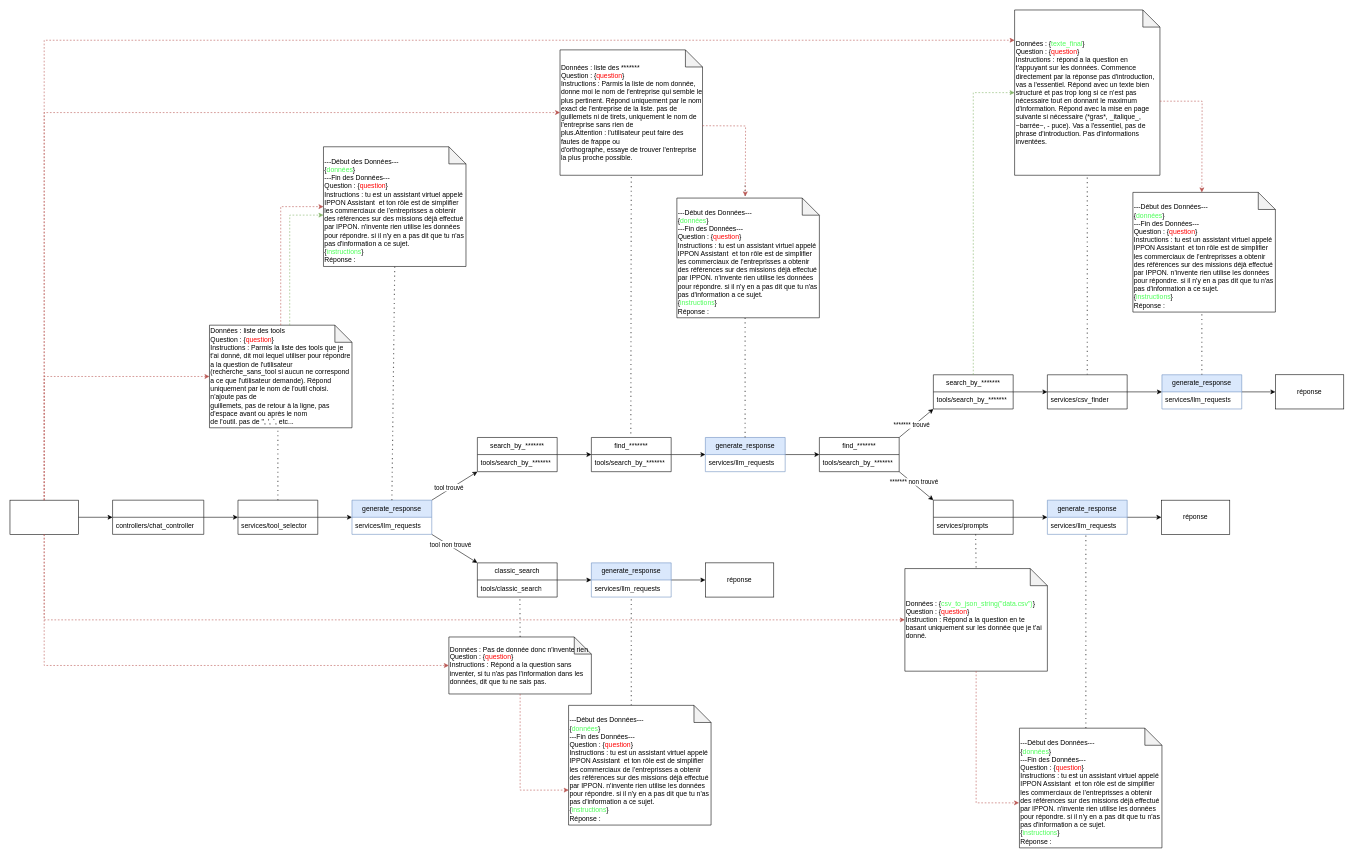
The diagram is 1354 pixels wide and 858 high, and some of its shapes have lost their labels. The shapes that lost their labels are listed below. From the top down, each one's box as (x1, y1, x2, y2) in pixels, then its label:
(1047, 374, 1127, 409): search_on_csv
(9, 500, 78, 534): question
(112, 500, 204, 534): handle_chat
(237, 500, 318, 534): chose_tool
(933, 500, 1013, 534): get_prompt
